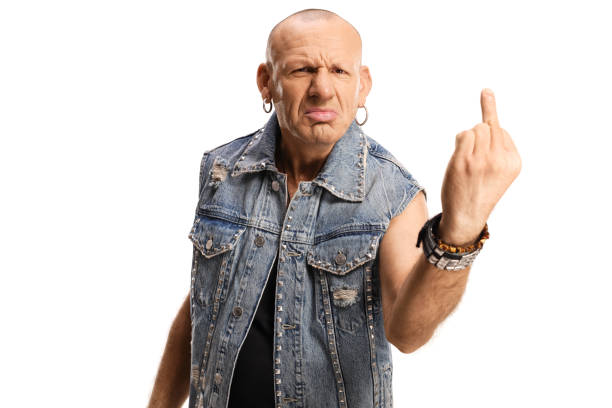insulting_gesture: (438, 86, 522, 216)
